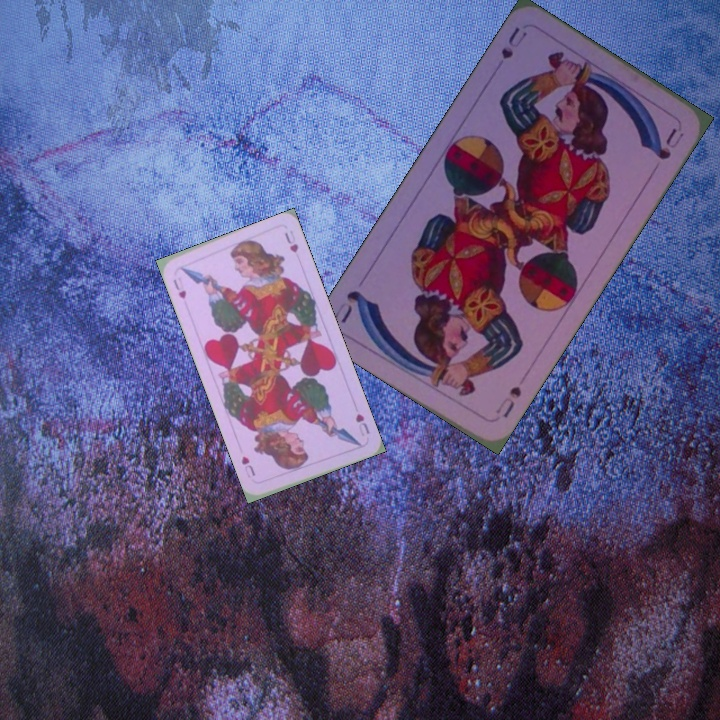HU: (351, 410, 372, 438), (169, 275, 189, 302)
SU: (497, 23, 530, 62), (491, 382, 524, 421)
